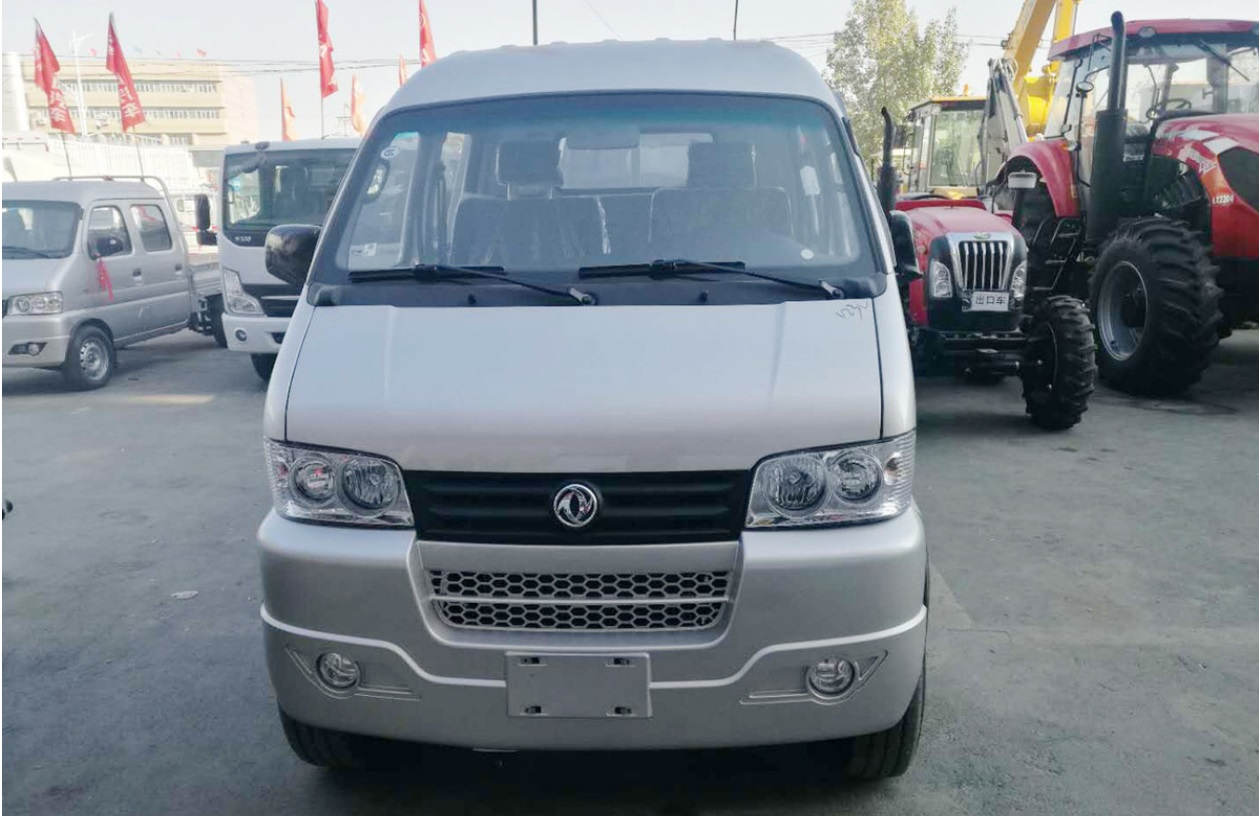truck: (258, 35, 936, 791)
